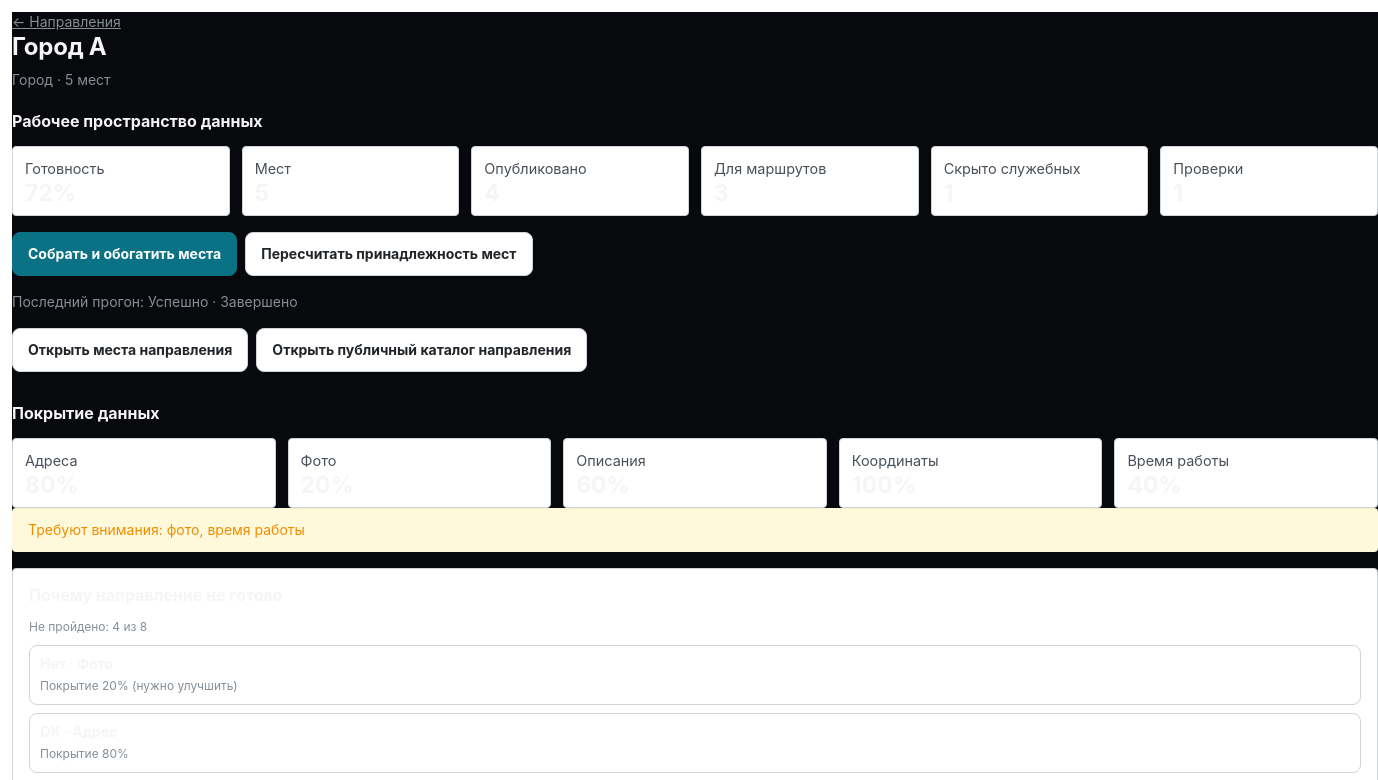
Test: AdminDestinationDetailPage › runs confirmed full collection and recalculation actions with loading state
Click the button "Собрать и обогатить места" at x=125, y=254, box [12,232,237,276]
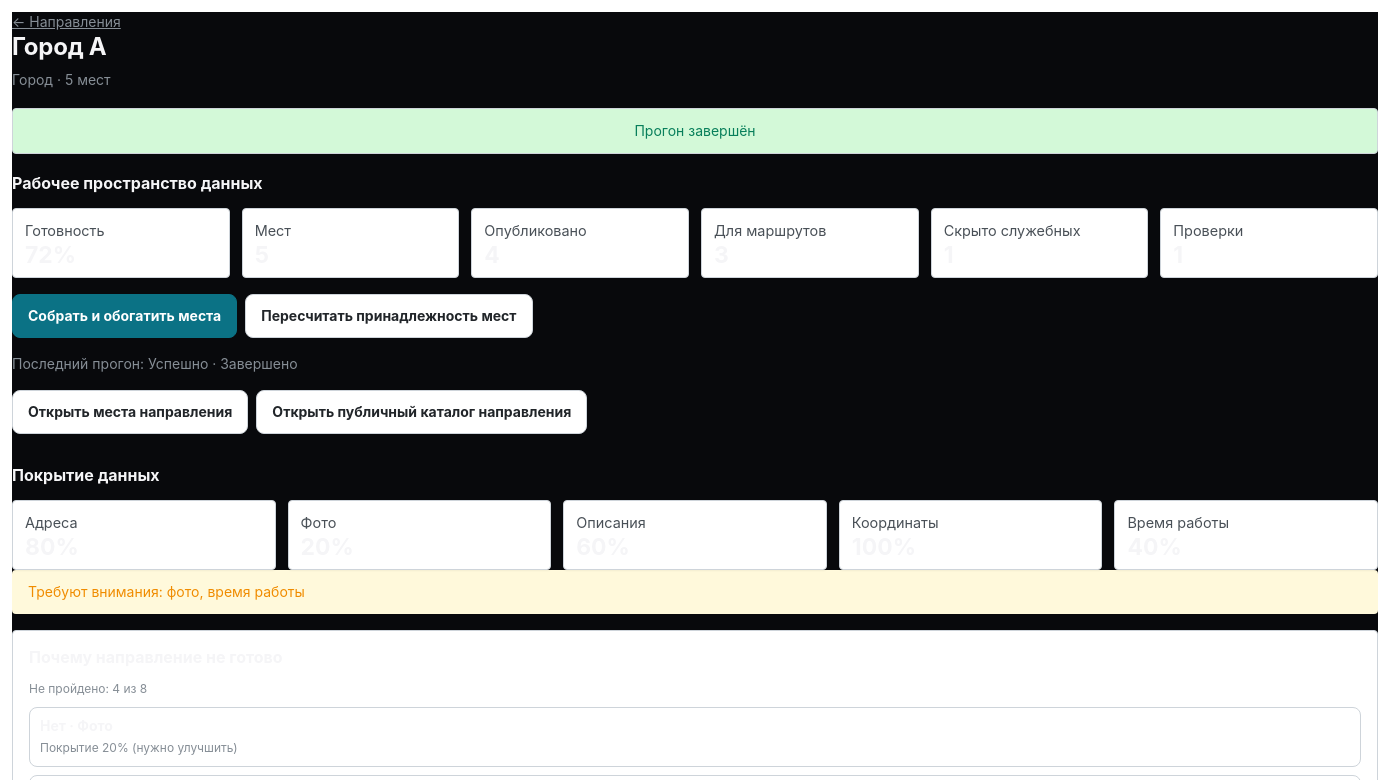
Click the button "Пересчитать принадлежность мест" at x=389, y=316, box [245,294,532,338]
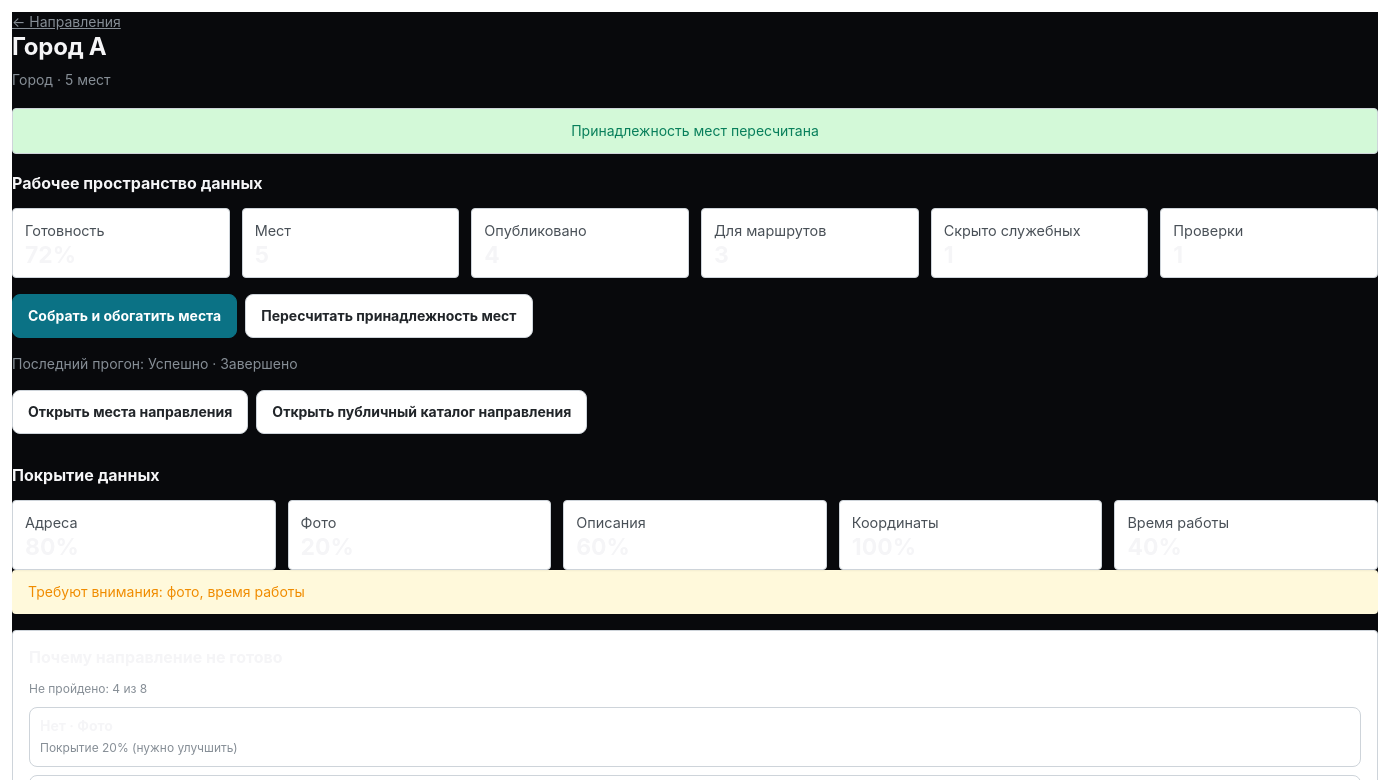
Result: the text "Принадлежность мест пересчитана" is shown at [12,108,1377,154]
